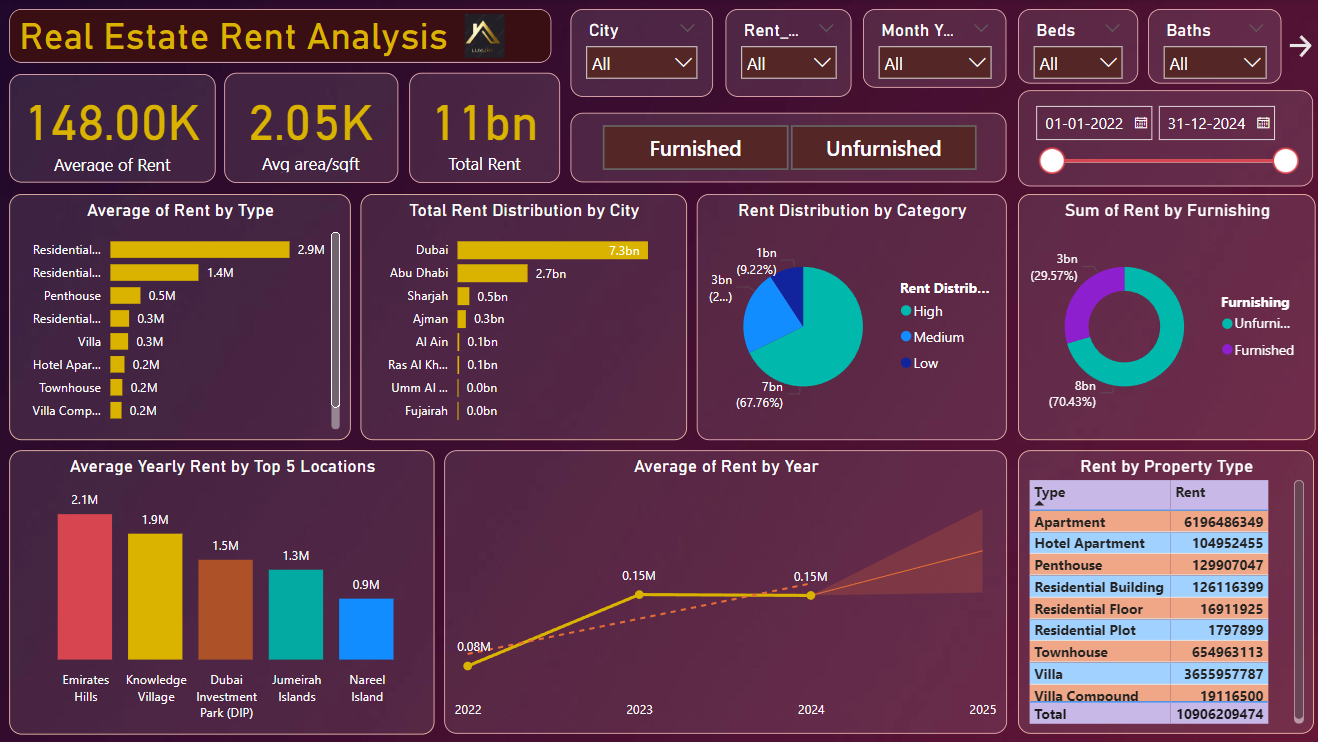

What the dashboard file says about the page in this screenshot:
{"tool":"powerbi","page":{"name":"Dashboard 1","canvas":[1280,720],"ordinal":0},"visuals":[{"type":"card","fields":{"Values":["Avg(dubai_properties.Rent)"]},"box":[10.9,72.4,199.1,105],"z":0},{"type":"card","fields":{"Values":["Avg(dubai_properties.Area_in_sqft)"]},"box":[218.4,71.2,167.7,106.2],"z":1000},{"type":"card","fields":{"Values":["Sum(dubai_properties.Rent)"]},"box":[396.9,71.2,146,106.2],"z":2000},{"type":"textbox","title":"Real Estate Rent Analysis","box":[10.9,9.7,523.6,51.9],"z":3000},{"type":"slicer","fields":{"Values":["dubai_properties.Furnishing"]},"box":[552.5,109.8,421,67.6],"z":4000},{"type":"slicer","fields":{"Values":["dubai_properties.Rent_category"]},"box":[702.1,9.7,121.9,84.5],"z":5000},{"type":"slicer","fields":{"Values":["dubai_properties.City"]},"box":[552.5,9.7,137.5,84.5],"z":6000},{"type":"slicer","fields":{"Values":["Calendar table.Date"]},"box":[984.5,88.1,284.7,92.9],"z":7000},{"type":"slicer","fields":{"Values":["Calendar table.Month","Calendar table.Year"]},"box":[834.9,9.7,138.7,76],"z":8000},{"type":"slicer","fields":{"Values":["dubai_properties.Beds"]},"box":[984.5,9.7,115.8,72.4],"z":9000},{"type":"slicer","fields":{"Values":["dubai_properties.Baths"]},"box":[1109.9,9.7,129.1,72.4],"z":10000},{"type":"barChart","fields":{"Category":["dubai_properties.Type"],"Y":["Avg(dubai_properties.Rent)"]},"box":[10.9,188.2,329.4,237.7],"z":11000},{"type":"barChart","title":"Total Rent Distribution by City","fields":{"Y":["Sum(dubai_properties.Rent)"],"Category":["dubai_properties.City"]},"box":[349.9,188.2,314.9,237.7],"z":12000},{"type":"pieChart","title":"Rent Distribution by Category","fields":{"Y":["Sum(dubai_properties.Rent)"],"Category":["dubai_properties.Rent_category"]},"box":[674.4,188.2,299.2,237.7],"z":13000},{"type":"donutChart","fields":{"Y":["Sum(dubai_properties.Rent)"],"Category":["dubai_properties.Furnishing"]},"box":[984.5,188.2,287.1,237.7],"z":14000},{"type":"columnChart","title":"Average Yearly Rent by Top 5 Locations ","fields":{"Category":["dubai_properties.Location"],"Y":["Avg(dubai_properties.Rent)"]},"box":[11,435,410.3,274.4],"z":15000},{"type":"lineChart","fields":{"Category":["Calendar table.Month","Calendar table.Quarter","Calendar table.Year"],"Y":["Avg(dubai_properties.Rent)"]},"box":[430.7,435.5,542.9,273.9],"z":16000},{"type":"tableEx","title":"Rent by Property Type","fields":{"Values":["dubai_properties.Type","Sum(dubai_properties.Rent)"]},"box":[984.5,435.5,285.9,273.9],"z":17000},{"type":"image","box":[396.9,9.7,146,51.9],"z":18000},{"type":"actionButton","box":[1241.4,21.7,30.2,48.3],"z":19000}]}

Visuals, with their boxes in screenshot pixels (x1, y1, x2, y2), scaled from the page's 1280x720 canvas onto the 1318x742 screenshot:
card - Avg(dubai_properties.Rent): rect(11, 75, 216, 183)
card - Avg(dubai_properties.Area_in_sqft): rect(225, 73, 398, 183)
card - Sum(dubai_properties.Rent): rect(409, 73, 559, 183)
"Real Estate Rent Analysis" textbox: rect(11, 10, 550, 63)
slicer - dubai_properties.Furnishing: rect(569, 113, 1002, 183)
slicer - dubai_properties.Rent_category: rect(723, 10, 848, 97)
slicer - dubai_properties.City: rect(569, 10, 710, 97)
slicer - Calendar table.Date: rect(1014, 91, 1307, 187)
slicer - Calendar table.Month x Calendar table.Year: rect(860, 10, 1003, 88)
slicer - dubai_properties.Beds: rect(1014, 10, 1133, 85)
slicer - dubai_properties.Baths: rect(1143, 10, 1276, 85)
barChart - dubai_properties.Type x Avg(dubai_properties.Rent): rect(11, 194, 350, 439)
"Total Rent Distribution by City" barChart: rect(360, 194, 685, 439)
"Rent Distribution by Category" pieChart: rect(694, 194, 1003, 439)
donutChart - Sum(dubai_properties.Rent) x dubai_properties.Furnishing: rect(1014, 194, 1309, 439)
"Average Yearly Rent by Top 5 Locations " columnChart: rect(11, 448, 434, 731)
lineChart - Calendar table.Month x Calendar table.Quarter: rect(443, 449, 1003, 731)
"Rent by Property Type" tableEx: rect(1014, 449, 1308, 731)
image: rect(409, 10, 559, 63)
actionButton: rect(1278, 22, 1309, 72)
